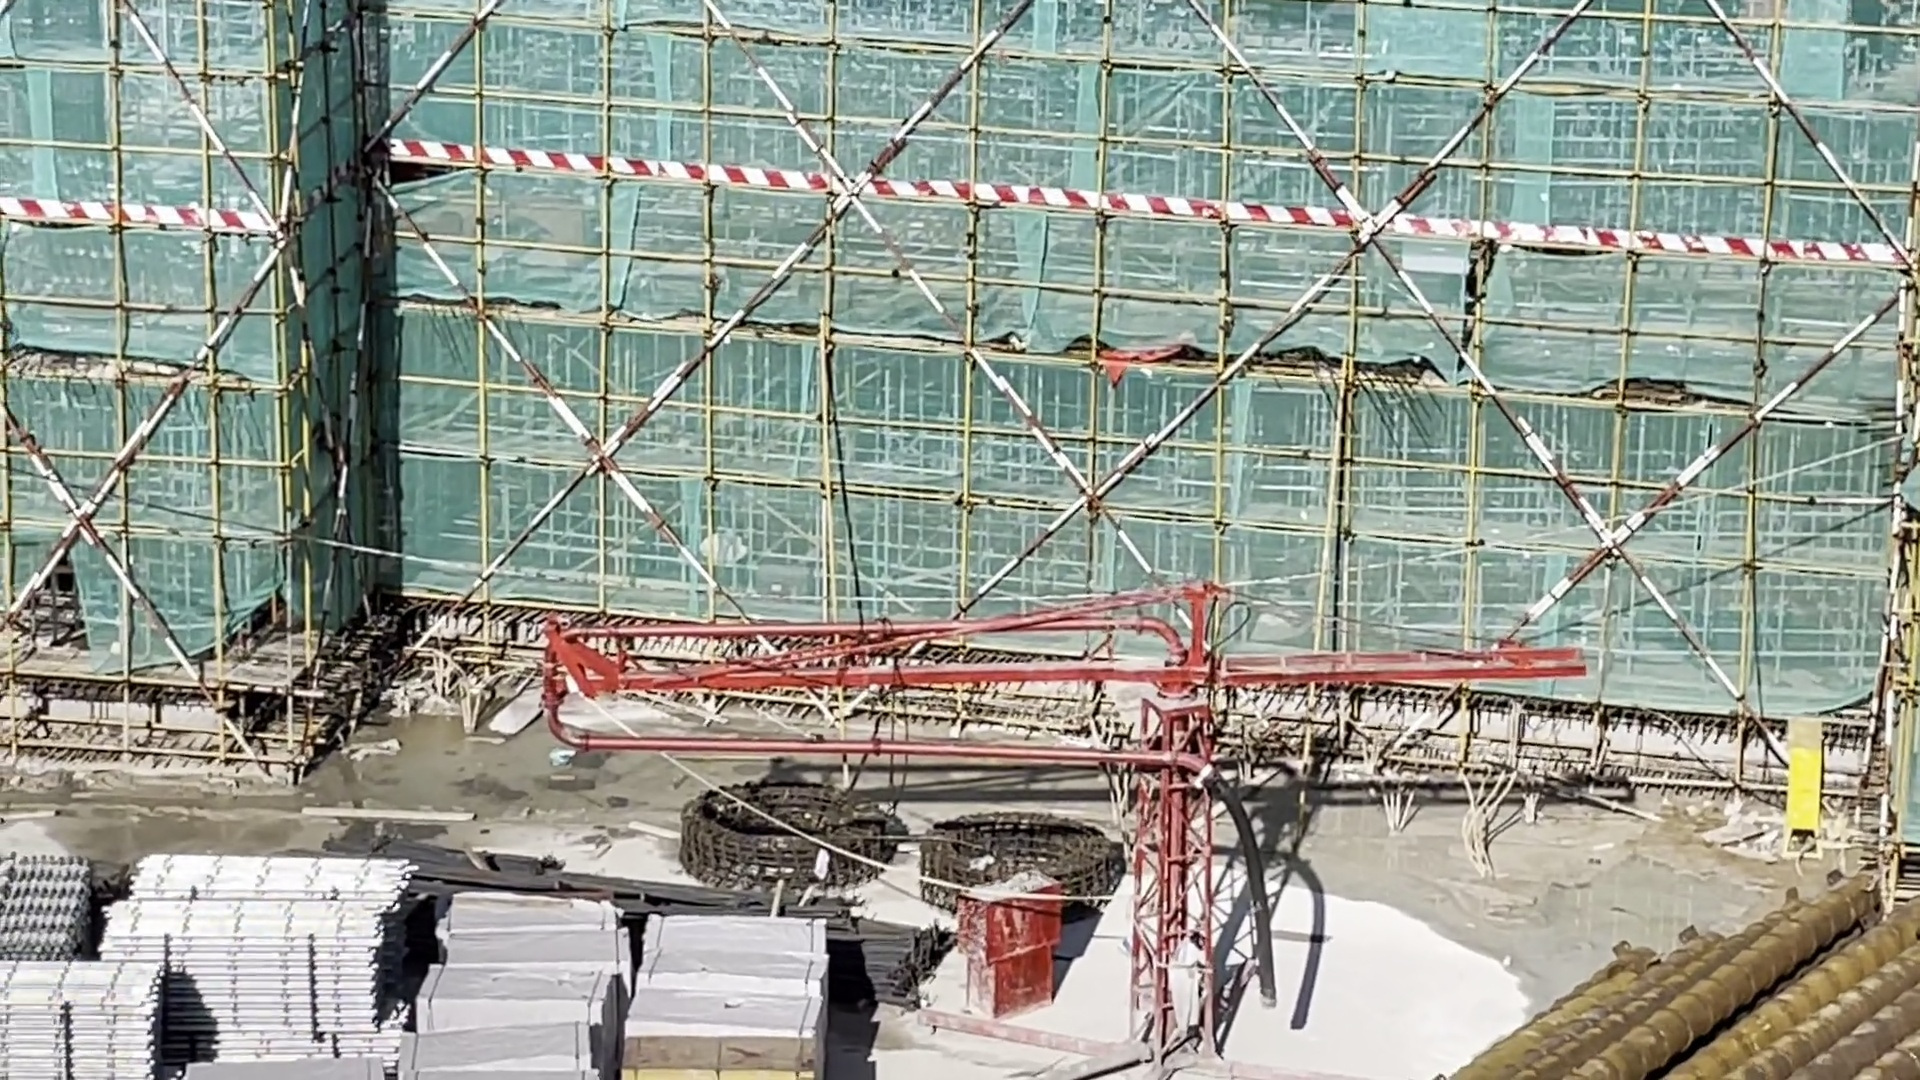board: (613, 1051, 767, 1080)
ebox: (1793, 716, 1844, 812)
rebar: (1428, 884, 1920, 1073), (404, 841, 709, 905), (841, 914, 934, 1000)
scaffold: (119, 855, 401, 1026), (18, 982, 185, 1077), (11, 857, 88, 957)
